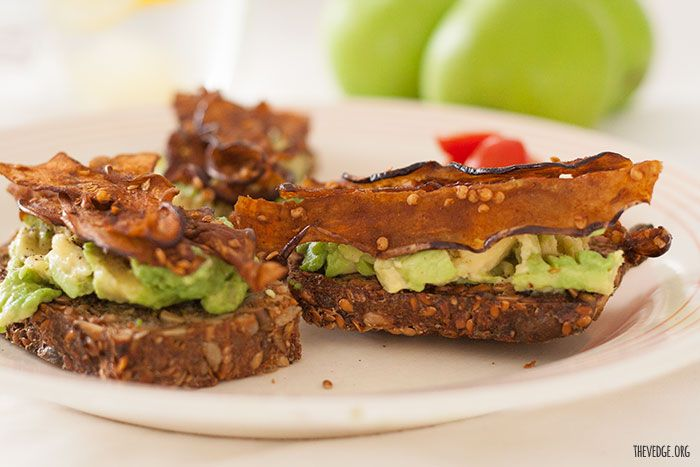bacon: (336, 134, 647, 205)
